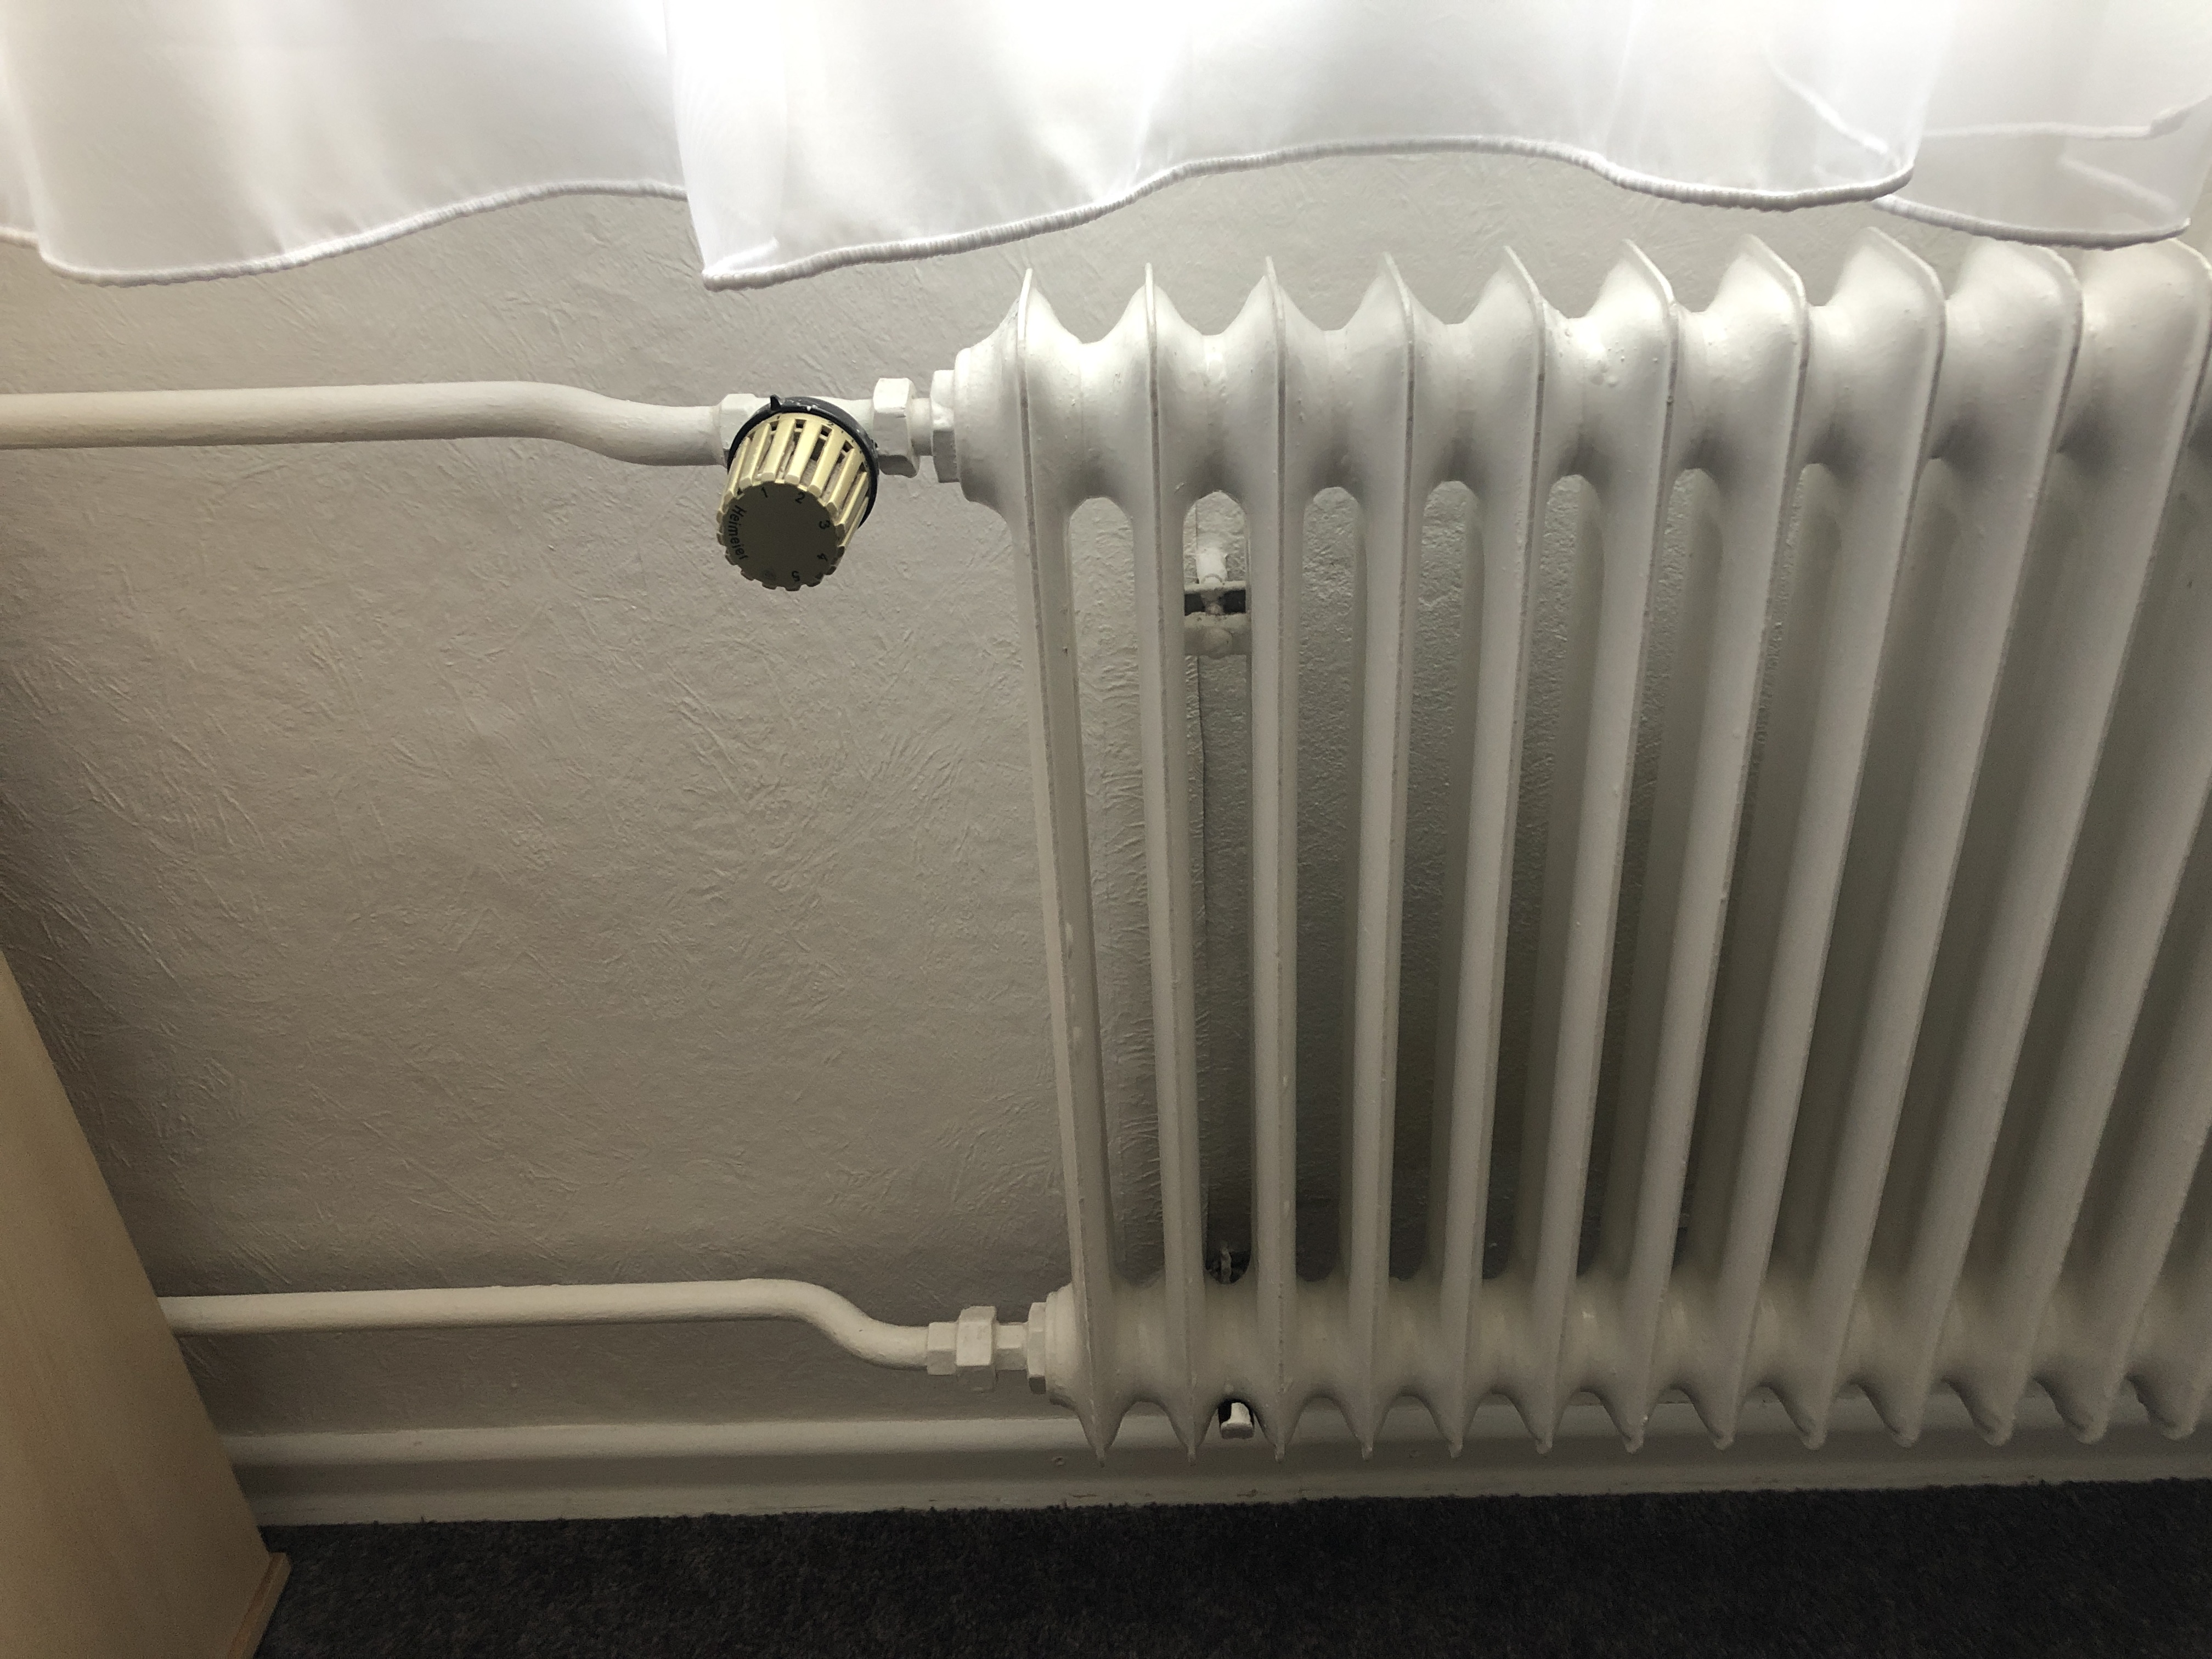Radiator: (705, 218, 2212, 1485)
